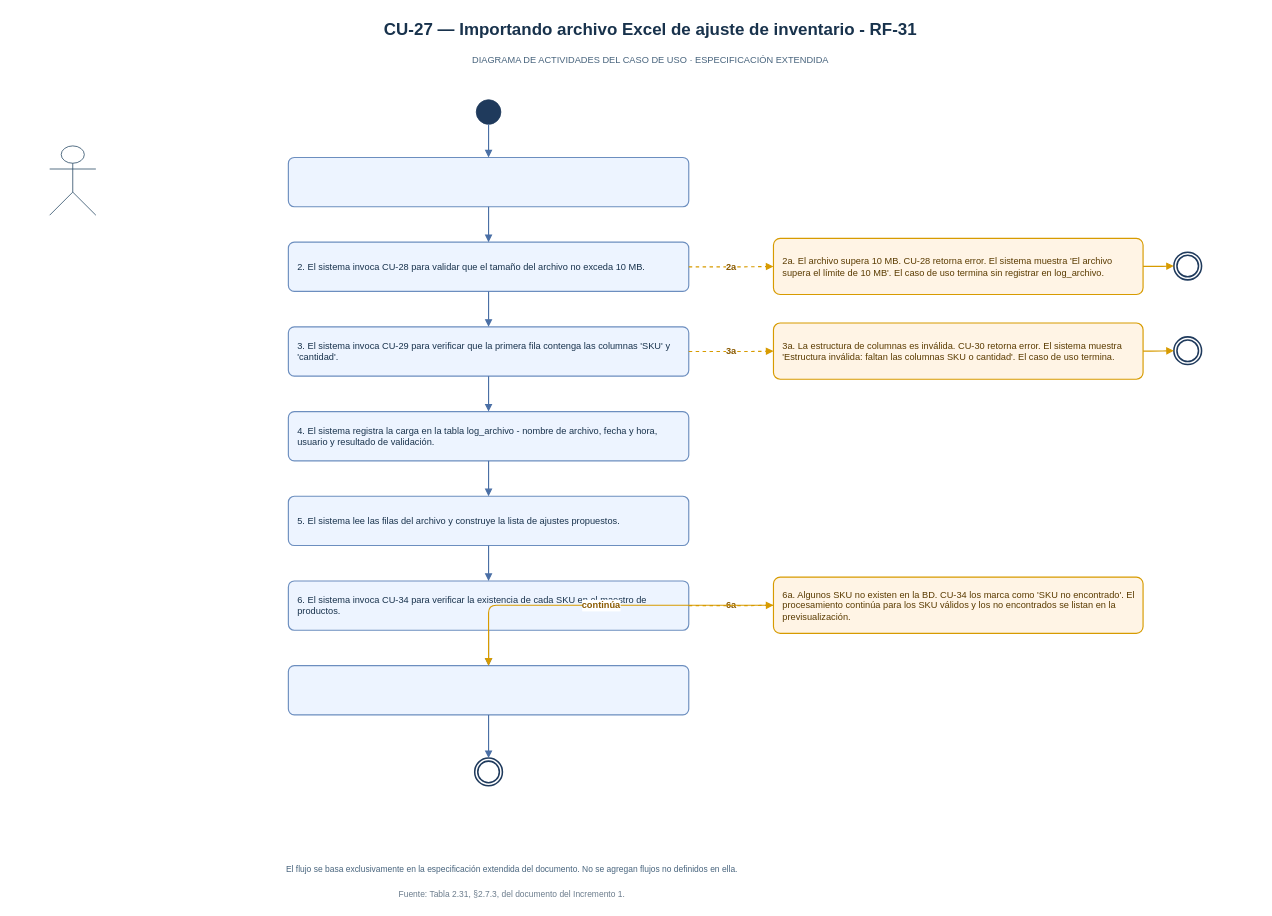
Some shapes in this 1272 by 916 pixel diagram are drawn without their labels. Here are the shapes that lost their labels. From the top down, the centre of each, then its label:
(72,180): Administrador / Bodeguero
(488,182): 1. El sistema recibe la ruta del archivo seleccionado por el usuario.
(488,690): 7. El sistema invoca CU-31 para mostrar la previsualización del ajuste.
